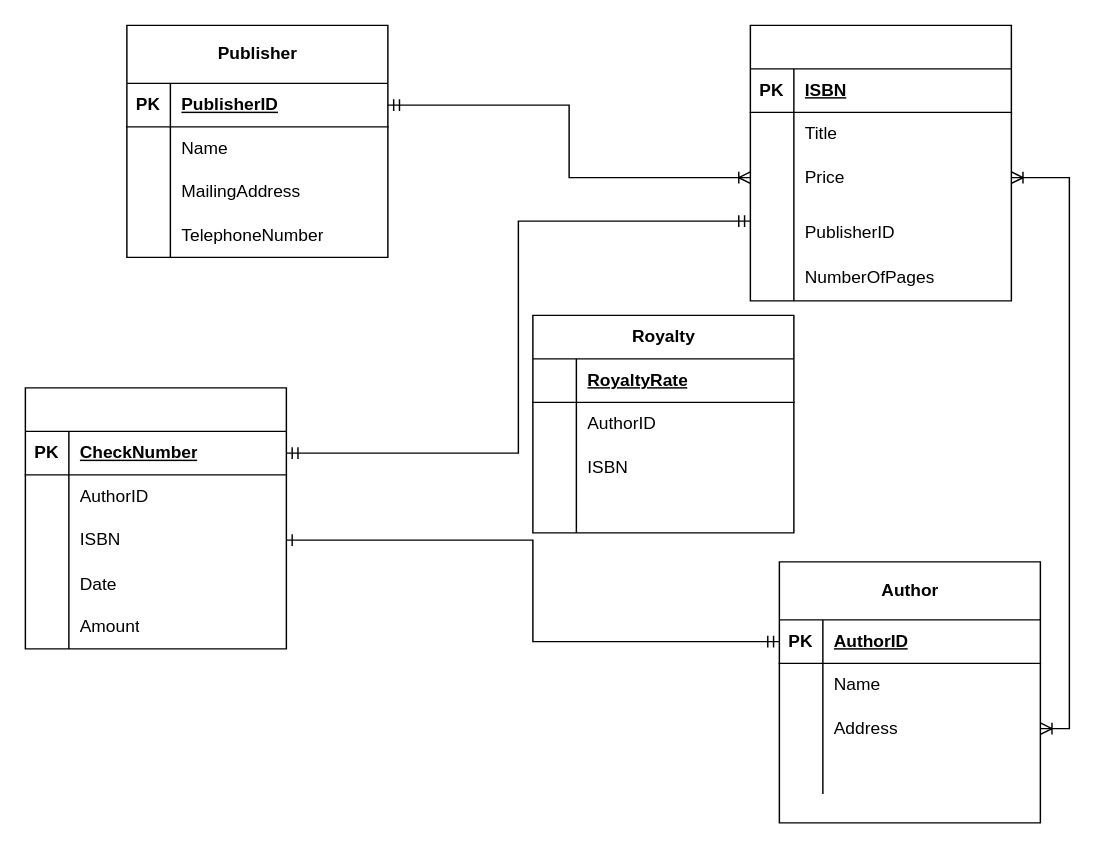
Some shapes in this 1108 by 848 pixel diagram are drawn without their labels. Here are the shapes that lost their labels. From the top down, the box of each, then its label:
(749, 24, 1011, 301): Book
(24, 386, 286, 649): RoyaltyCheck
